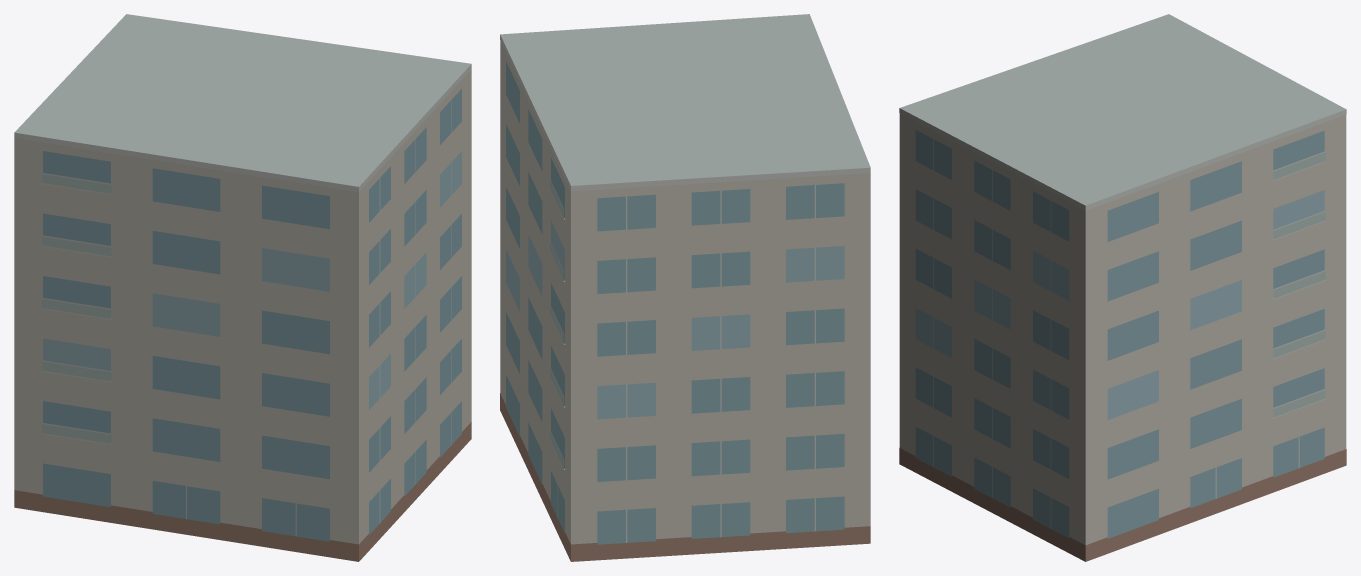
Rendered from survey-upis-33001470.glb.
3 renders of one model, left to right at view 1: azimuth 30°, elevation 25°; view 2: azimuth 150°, elevation 25°; view 3: azimuth 270°, elevation 25°, orthographic. The views are drawn at different scales.
Parts seen in each view (by area): view 1: survey-upis-33001470.tmp; view 2: survey-upis-33001470.tmp; view 3: survey-upis-33001470.tmp.
Part boxes in pixels (x1,y1,x2,y2): survey-upis-33001470.tmp: (14,14,471,561); survey-upis-33001470.tmp: (500,14,870,561); survey-upis-33001470.tmp: (899,14,1346,561).
Size of the model in its own units: 19.74 by 17.1 by 19.46.
